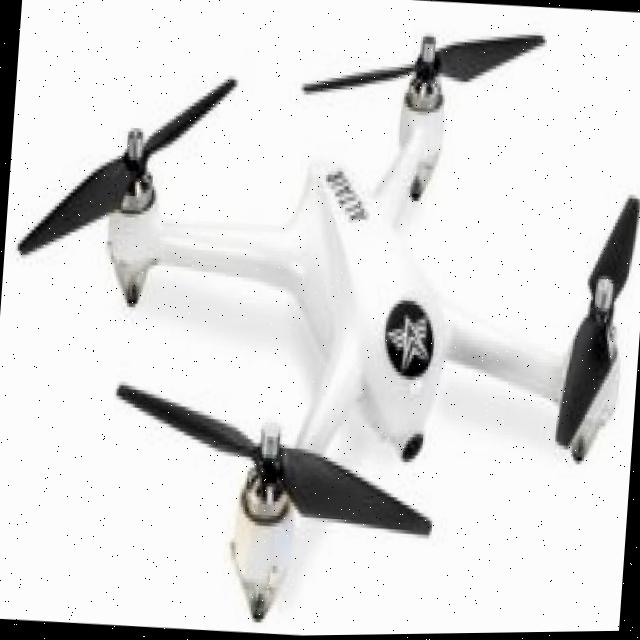drone: (48, 19, 640, 579)
